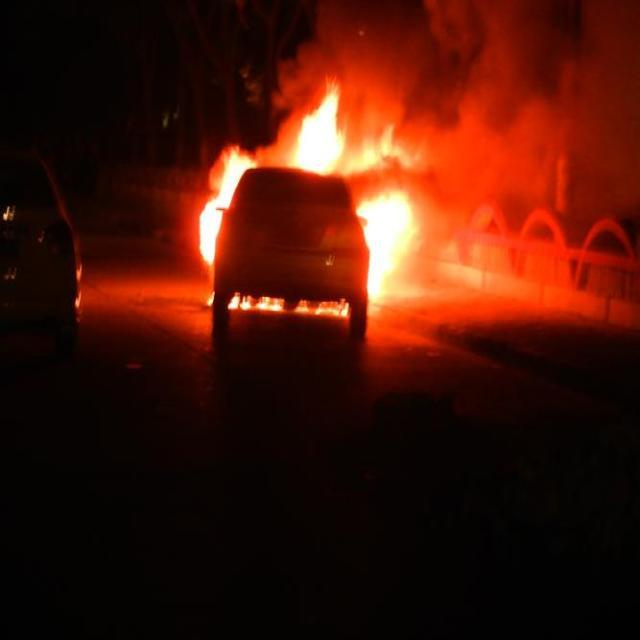Fire: (358, 192, 418, 304), (292, 82, 349, 174), (196, 200, 226, 262), (219, 153, 254, 205)
